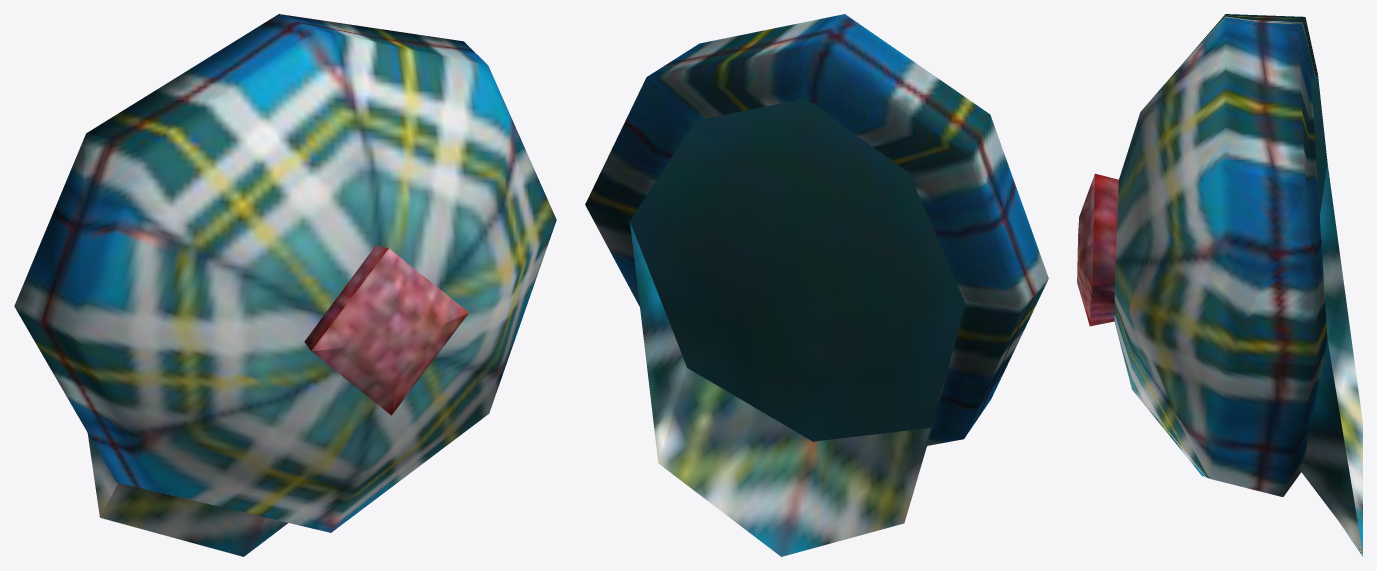
Rendered from tt_m_chr_avt_acc_hat_golfHat.glb.
3 renders of one model, left to right at view 1: azimuth 30°, elevation 25°; view 2: azimuth 150°, elevation 25°; view 3: azimuth 270°, elevation 25°, orthographic. The views are drawn at different scales.
Visible parts, largest first — view 1: golfHat; view 2: golfHat; view 3: golfHat.
Part boxes in pixels (bbox=[...]): golfHat: bbox=[14, 14, 556, 556]; golfHat: bbox=[585, 14, 1048, 556]; golfHat: bbox=[1077, 14, 1362, 556].
Bounding box in the file's own units: 3.45 × 3.76 × 1.82.
1 material, 1 textured.
